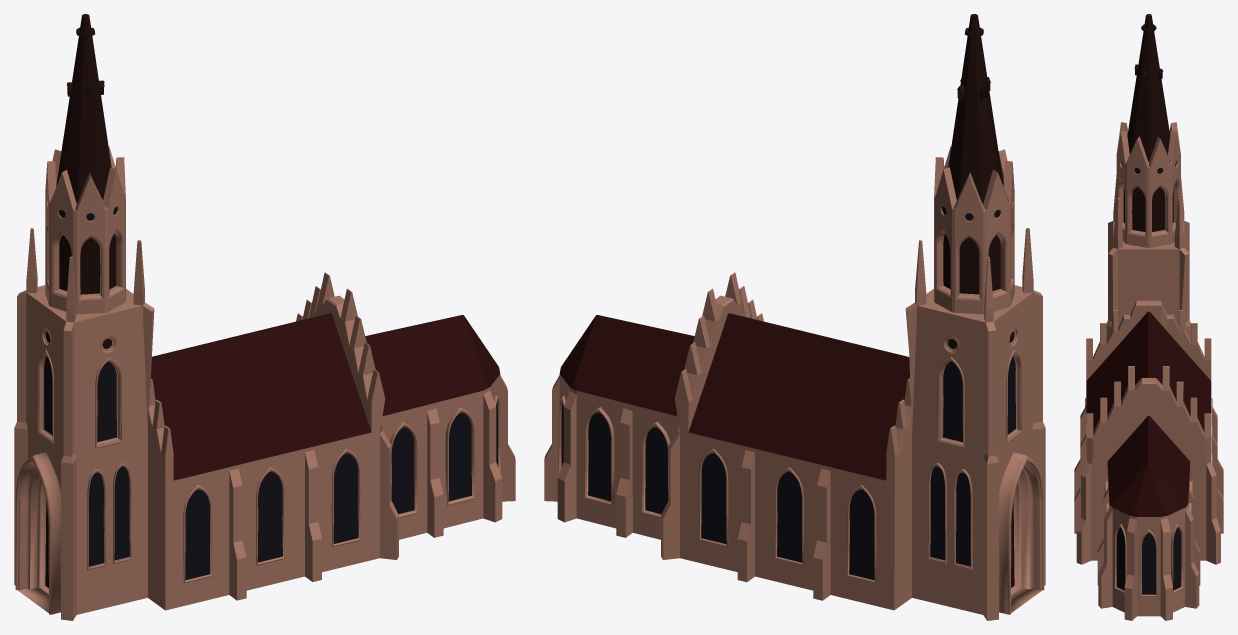
File: Iglesia.obj
3 views of the same model, side by side, from view 1: azimuth 30°, elevation 25°; view 2: azimuth 150°, elevation 25°; view 3: azimuth 270°, elevation 25° (orthographic). The views are drawn at different scales.
Visible parts, largest first — view 1: Circle.002_Circle.003; view 2: Circle.002_Circle.003; view 3: Circle.002_Circle.003.
Boxes of the visible parts, x1=… form: Circle.002_Circle.003: x1=14, y1=14, x2=515, y2=620; Circle.002_Circle.003: x1=544, y1=14, x2=1045, y2=620; Circle.002_Circle.003: x1=1074, y1=14, x2=1223, y2=620.
Bounding box in the file's own units: 14 × 16.32 × 4.95.
